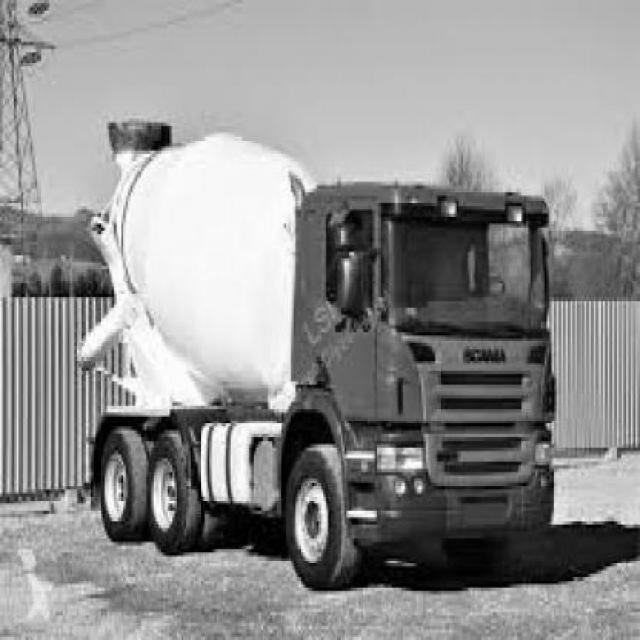Concrete Mixer: (79, 121, 556, 593)
